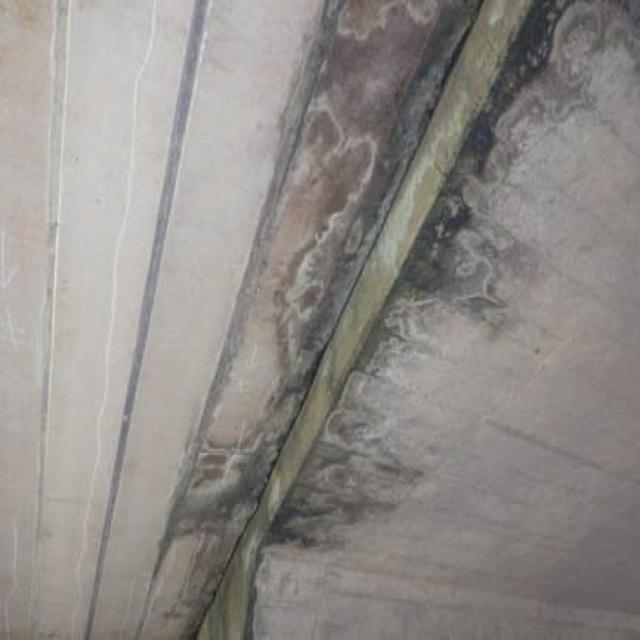leakage: (297, 16, 546, 274), (196, 310, 381, 639)
